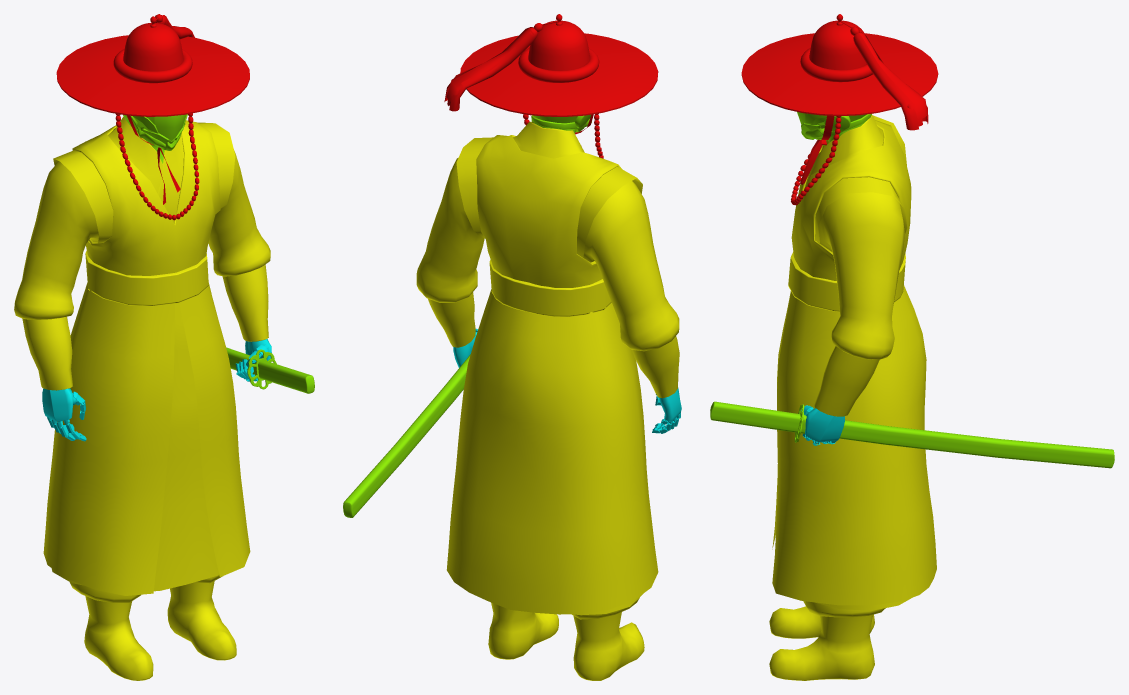
Rendered from robot.fbx.
3 renders of one model, left to right at view 1: azimuth 30°, elevation 25°; view 2: azimuth 150°, elevation 25°; view 3: azimuth 270°, elevation 25°, orthographic. The views are drawn at different scales.
Visible parts, largest first — view 1: Outer, Shirt, Hat, ShoeR, ShoeL, Sword2, Head, PalmR, Pants; view 2: Outer, Shirt, Hat, ShoeR, Sword2, ShoeL, Head; view 3: Outer, Shirt, Hat, Sword2, ShoeL, ShoeR, Head, PalmL, Pants.
Part boxes in pixels (x1=…): Outer: x1=43, y1=120, x2=250, y2=595; Shirt: x1=14, y1=116, x2=270, y2=591; Hat: x1=56, y1=14, x2=249, y2=220; ShoeR: x1=84, y1=596, x2=153, y2=680; ShoeL: x1=167, y1=581, x2=236, y2=660; Sword2: x1=226, y1=347, x2=314, y2=393; Head: x1=123, y1=114, x2=187, y2=163; PalmR: x1=42, y1=388, x2=73, y2=421; Pants: x1=69, y1=574, x2=222, y2=602; Outer: x1=446, y1=135, x2=658, y2=614; Shirt: x1=416, y1=121, x2=679, y2=615; Hat: x1=444, y1=14, x2=658, y2=158; ShoeR: x1=573, y1=612, x2=644, y2=680; Sword2: x1=343, y1=354, x2=470, y2=517; ShoeL: x1=488, y1=602, x2=558, y2=659; Head: x1=531, y1=114, x2=591, y2=133; Outer: x1=772, y1=115, x2=936, y2=605; Shirt: x1=804, y1=115, x2=912, y2=610; Hat: x1=741, y1=14, x2=938, y2=205; Sword2: x1=710, y1=401, x2=1114, y2=468; ShoeL: x1=769, y1=615, x2=874, y2=680; ShoeR: x1=769, y1=606, x2=874, y2=638; Head: x1=797, y1=112, x2=871, y2=142; PalmL: x1=805, y1=408, x2=844, y2=442; Pants: x1=803, y1=601, x2=885, y2=617.
Bounding box in the file's own units: 4.27 × 10.3 × 5.92.
